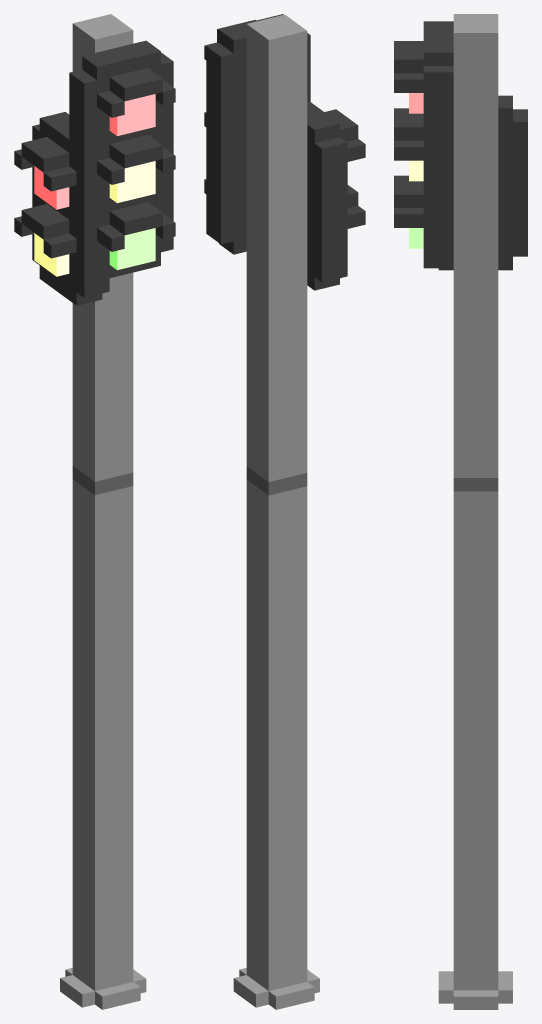
The model's file is trafficLightTwo.glb.
The picture shows the model from 3 angles, left to right: view 1: azimuth 30°, elevation 25°; view 2: azimuth 210°, elevation 25°; view 3: azimuth 270°, elevation 25°; orthographic projection.
Parts seen in each view (by area): view 1: ObjObject; view 2: ObjObject; view 3: ObjObject.
Boxes of the visible parts, <box> form: ObjObject: <box>14,14,175,1009</box>; ObjObject: <box>204,14,365,1009</box>; ObjObject: <box>394,14,527,1009</box>.
Size of the model in its own units: 0.9 by 7.2 by 0.9.
Materials: 4 (1 with a texture image).
